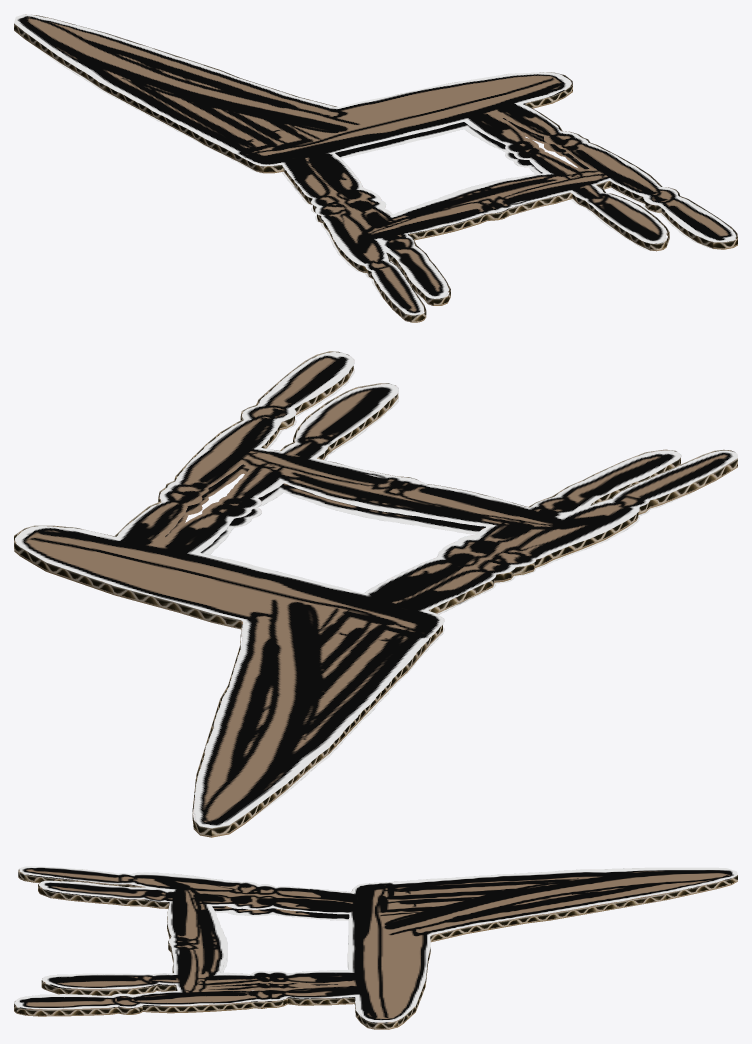
File: chairMute.fbx
The picture shows the model from 3 angles, top to bottom: view 1: azimuth 30°, elevation 25°; view 2: azimuth 150°, elevation 25°; view 3: azimuth 270°, elevation 25°; orthographic projection. The views are drawn at different scales.
Parts seen in each view (by area): view 1: Plane; view 2: Plane; view 3: Plane.
Boxes of the visible parts, box(x1,y1,x2,y2) form: Plane: box(14, 14, 737, 322); Plane: box(14, 351, 737, 837); Plane: box(14, 866, 737, 1029).
Bounding box in the file's own units: 2.62 × 0.05 × 5.09.
